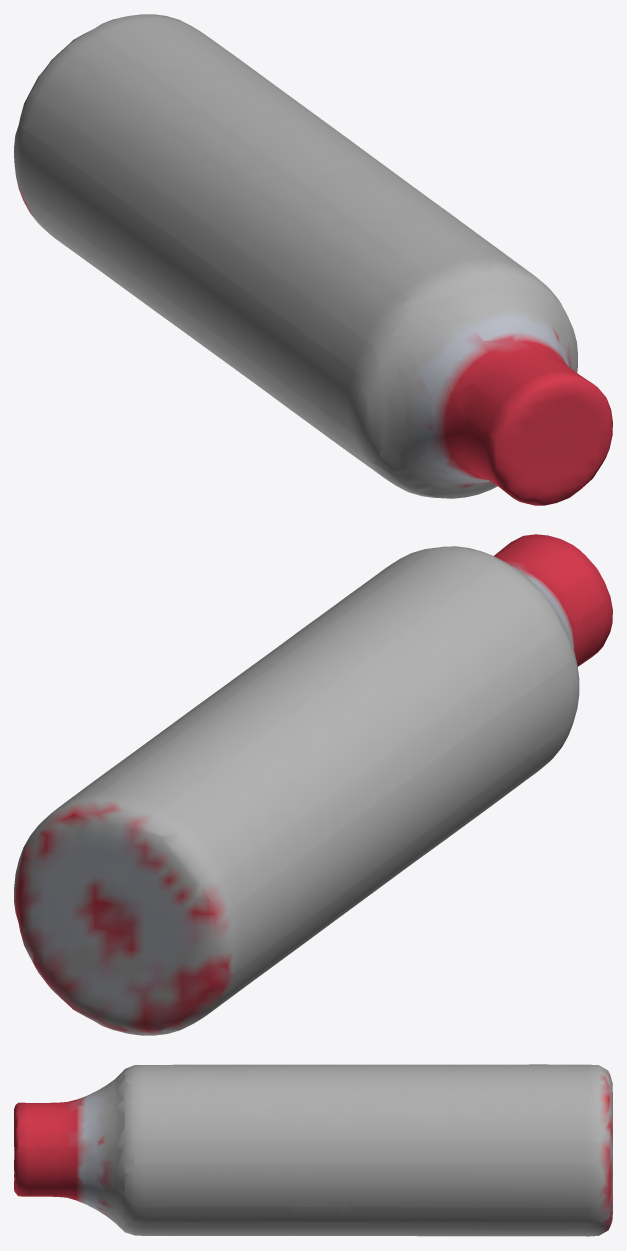
Rendered from a bottle with pour affordance.obj.
3 renders of one model, top to bottom at view 1: azimuth 30°, elevation 25°; view 2: azimuth 150°, elevation 25°; view 3: azimuth 270°, elevation 25°, orthographic. The views are drawn at different scales.
Size of the model in its own units: 0.2882 by 0.2882 by 1.
